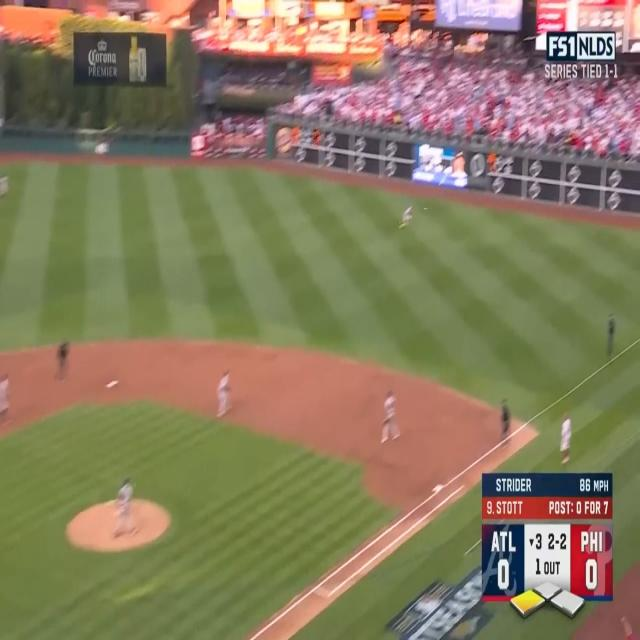baseball: (424, 207, 428, 211)
